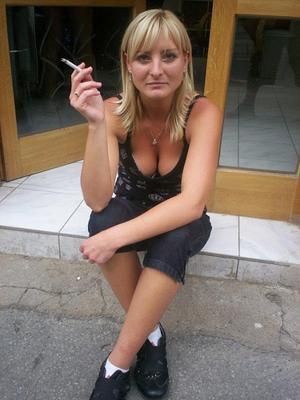person: (65, 5, 223, 400)
